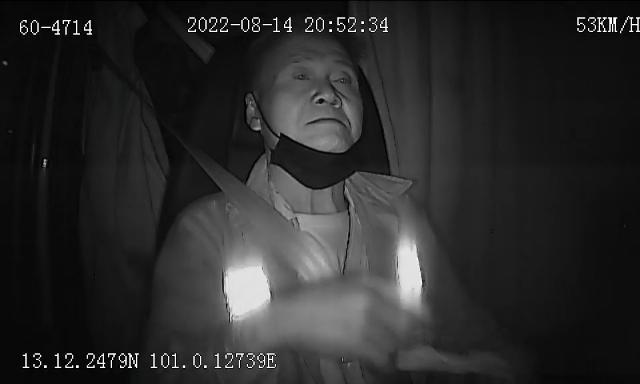SafeDriving: (326, 65, 356, 92), (288, 62, 316, 88)
Seatbelt: (171, 130, 363, 384)
